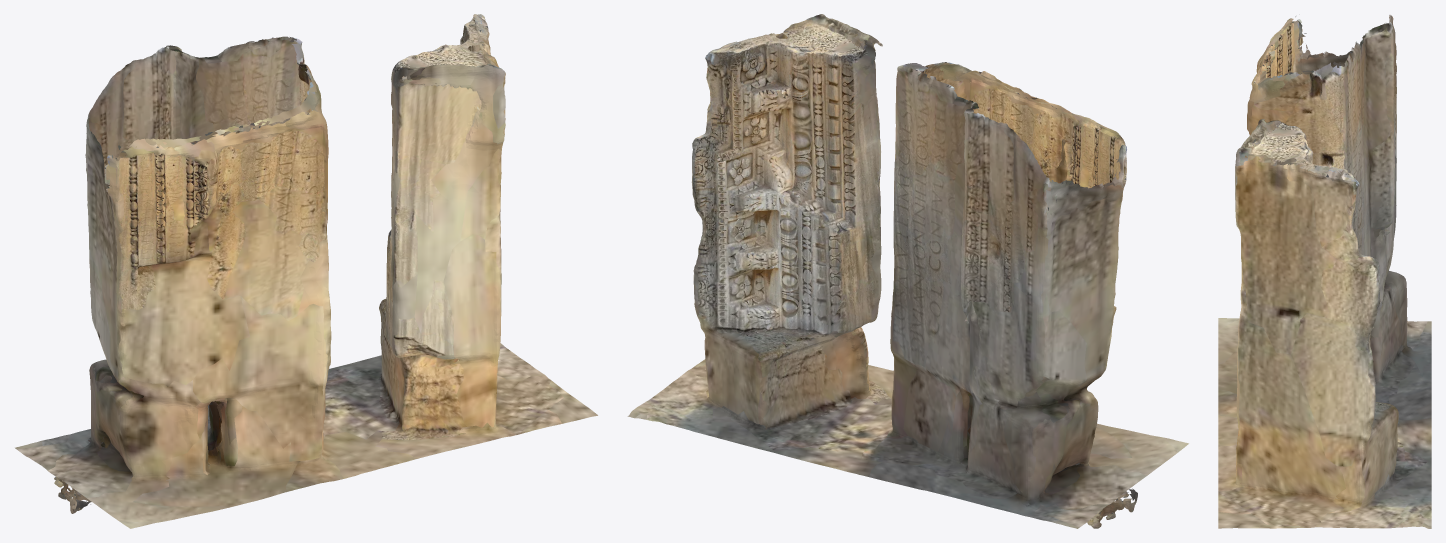
The model's file is architectural-fragments-baths-of-antoninus.glb.
3 views of the same model, side by side, from view 1: azimuth 30°, elevation 25°; view 2: azimuth 150°, elevation 25°; view 3: azimuth 270°, elevation 25° (orthographic). The views are drawn at different scales.
Parts seen in each view (by area): view 1: Object_2; view 2: Object_2; view 3: Object_2.
Part boxes in pixels (left/top/right/bottom): Object_2: left=15, top=14, right=597, bottom=528; Object_2: left=627, top=14, right=1188, bottom=528; Object_2: left=1218, top=15, right=1431, bottom=528.
Bounding box in the file's own units: 3.58 × 3.08 × 1.54.
Materials: 1 (1 with a texture image).
